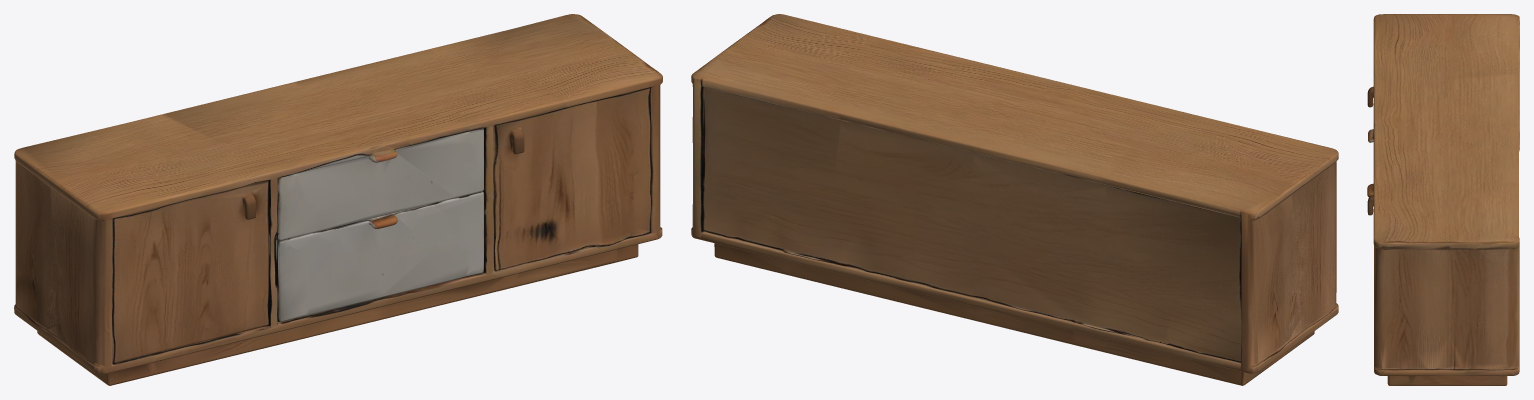
Rendered from tv_unit.a15ab0a2.glb.
The picture shows the model from 3 angles, left to right: view 1: azimuth 30°, elevation 25°; view 2: azimuth 150°, elevation 25°; view 3: azimuth 270°, elevation 25°; orthographic projection. The views are drawn at different scales.
Parts seen in each view (by area): view 1: tripo_node_4e1ce5c2-0b14-4443-b735-7571b65595cc; view 2: tripo_node_4e1ce5c2-0b14-4443-b735-7571b65595cc; view 3: tripo_node_4e1ce5c2-0b14-4443-b735-7571b65595cc.
Boxes of the visible parts, left/top/right/bottom form: tripo_node_4e1ce5c2-0b14-4443-b735-7571b65595cc: left=14, top=14, right=662, bottom=385; tripo_node_4e1ce5c2-0b14-4443-b735-7571b65595cc: left=691, top=14, right=1338, bottom=385; tripo_node_4e1ce5c2-0b14-4443-b735-7571b65595cc: left=1367, top=14, right=1519, bottom=385.
Bounding box in the file's own units: 1.6 × 0.4996 × 0.4496.
Materials: 1 (1 with a texture image).
